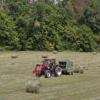Tractor: (28, 49, 83, 86)
